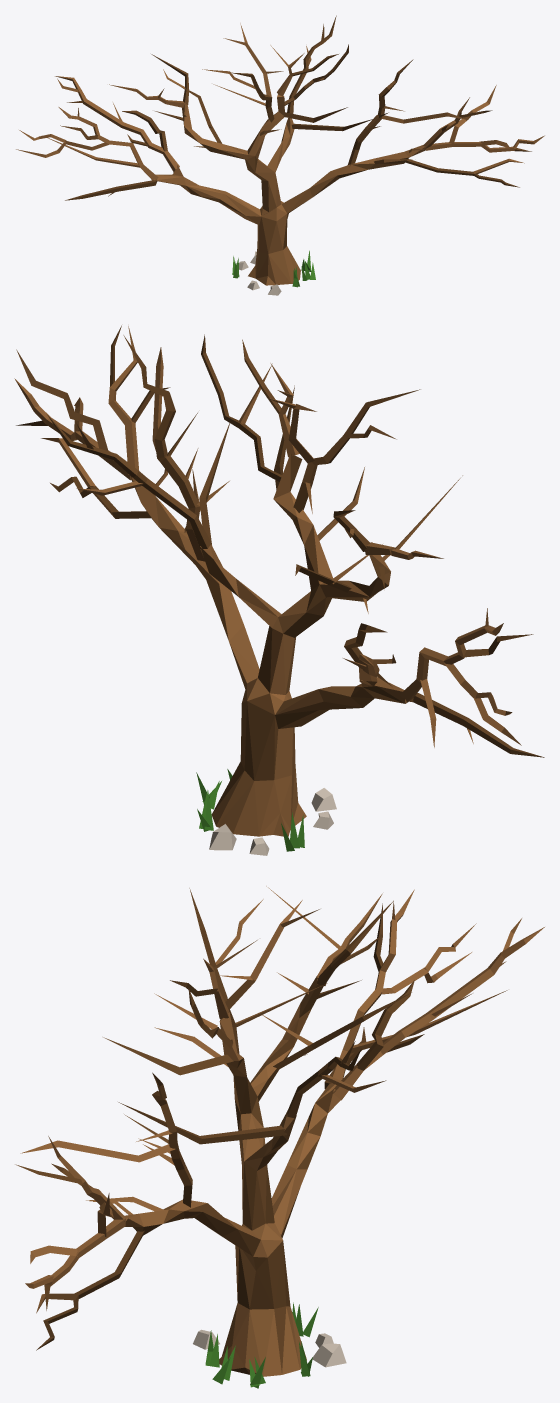
Rendered from jacaranda_2_bare.glb.
The picture shows the model from 3 angles, top to bottom: view 1: azimuth 30°, elevation 25°; view 2: azimuth 150°, elevation 25°; view 3: azimuth 270°, elevation 25°; orthographic projection. The views are drawn at different scales.
Parts seen in each view (by area): view 1: jacaranda_2_bare; view 2: jacaranda_2_bare; view 3: jacaranda_2_bare.
Part boxes in pixels (box(x1,y1,x2,y2)): jacaranda_2_bare: box(16, 15, 544, 295); jacaranda_2_bare: box(14, 325, 544, 855); jacaranda_2_bare: box(15, 886, 544, 1388).
Size of the model in its own units: 10.25 by 6.01 by 6.64.
